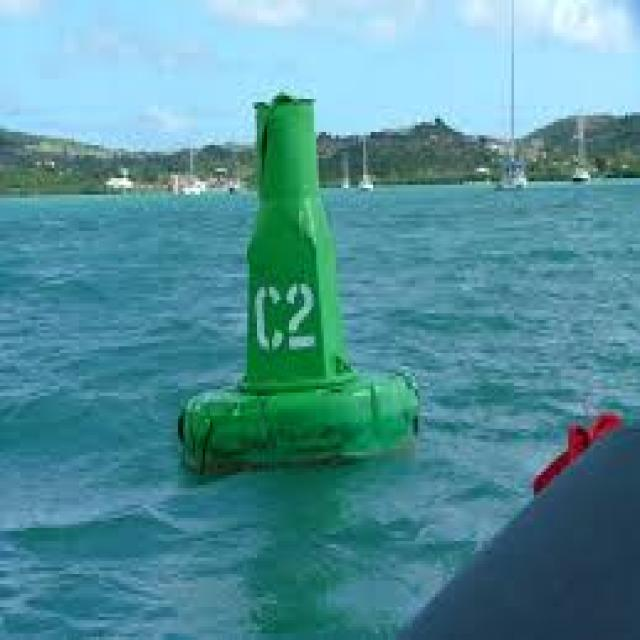2.1 lateral mark -S-: (153, 28, 435, 485)
